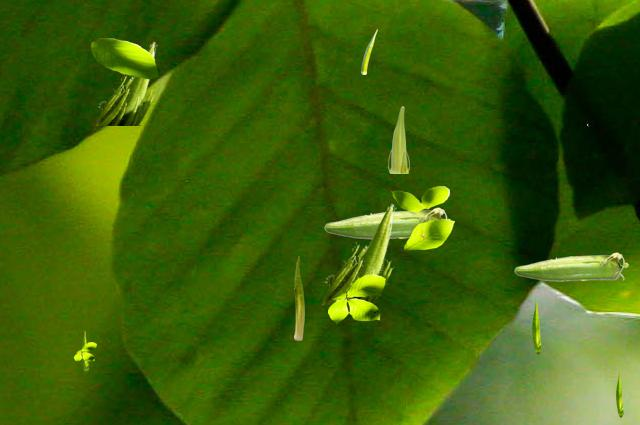okra: (321, 203, 395, 303), (95, 41, 156, 124), (324, 207, 450, 238), (514, 252, 627, 280), (387, 106, 408, 172), (294, 256, 303, 339), (361, 29, 376, 73), (532, 300, 540, 353), (616, 372, 622, 416), (82, 331, 87, 371)
